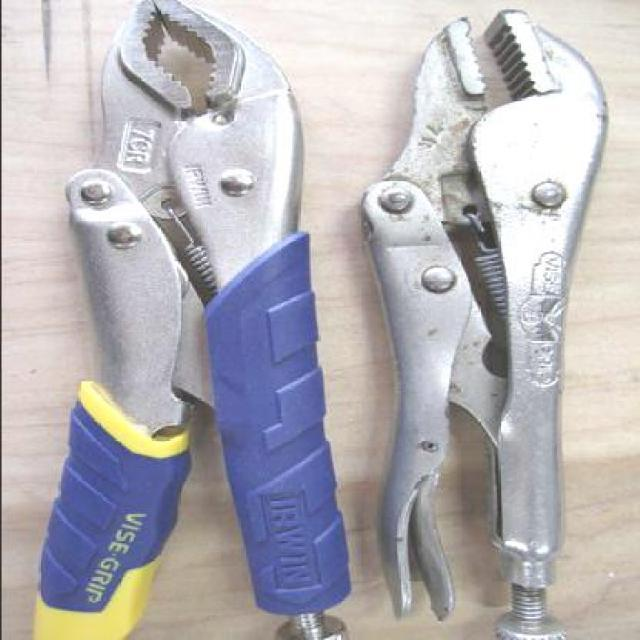pliers: (35, 0, 349, 638)
